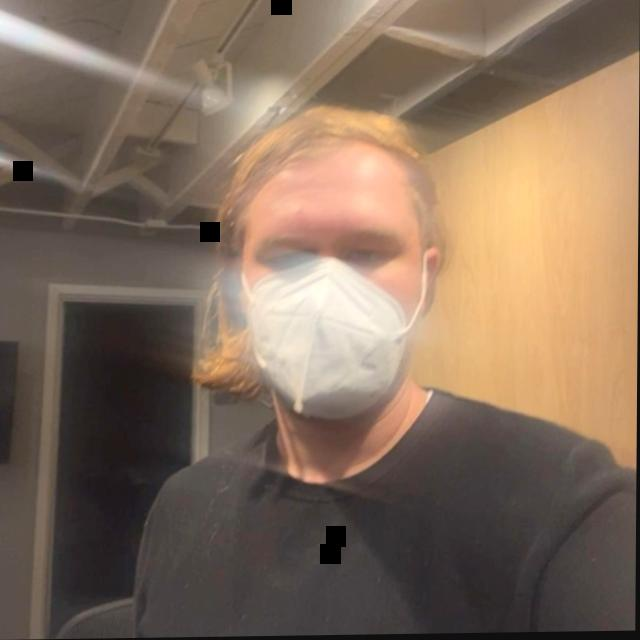Mask: (175, 125, 439, 450)
